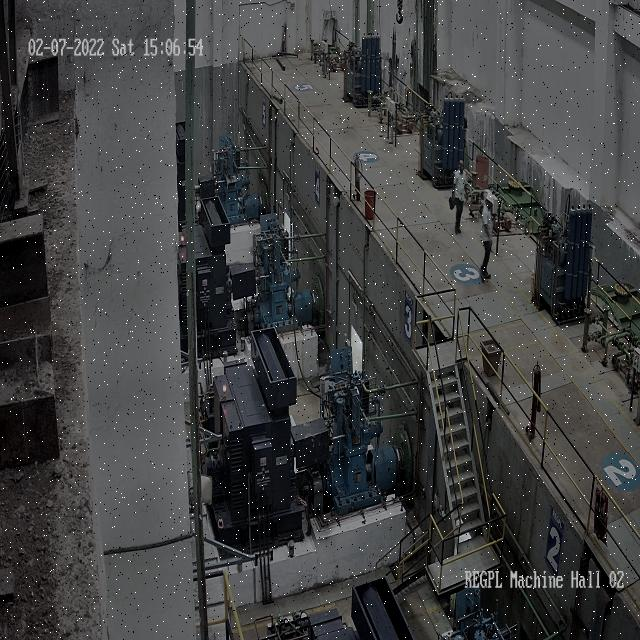Boots: (480, 267, 488, 283), (482, 269, 492, 281), (455, 225, 458, 236), (457, 227, 461, 234)
